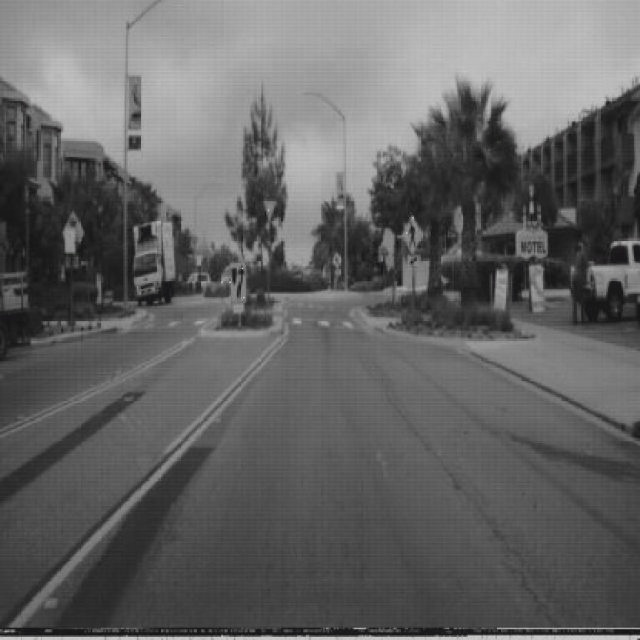keepRight: (229, 262, 247, 304)
pedestrianCrossing: (403, 212, 425, 255)
yield: (263, 197, 277, 223)
